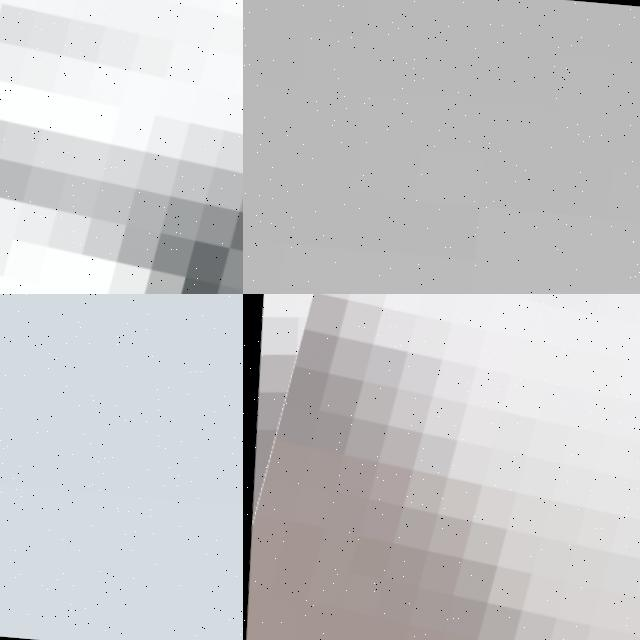drone: (243, 294, 640, 640), (0, 0, 243, 294)
